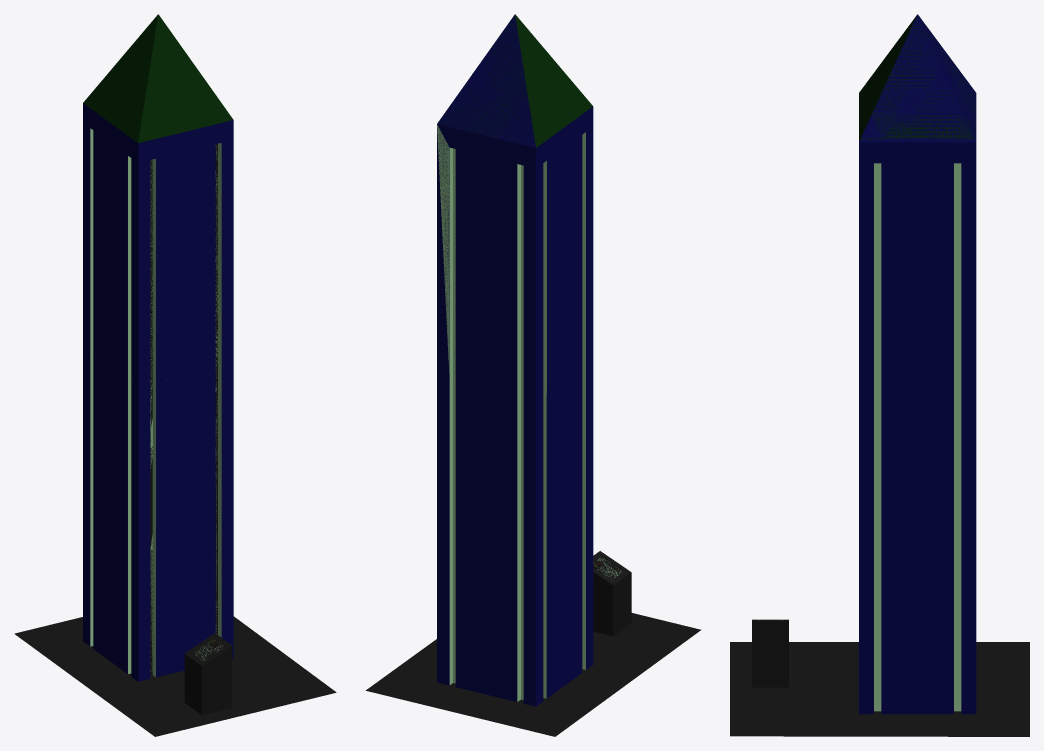
The model's file is torre.obj.
The picture shows the model from 3 angles, left to right: view 1: azimuth 30°, elevation 25°; view 2: azimuth 150°, elevation 25°; view 3: azimuth 270°, elevation 25°; orthographic projection. The views are drawn at different scales.
Visible parts, largest first — view 1: SketchUp.010_ID78; view 2: SketchUp.010_ID78; view 3: SketchUp.010_ID78.
Part boxes in pixels (x1=…): SketchUp.010_ID78: x1=14, y1=14, x2=336, y2=736; SketchUp.010_ID78: x1=366, y1=14, x2=701, y2=736; SketchUp.010_ID78: x1=730, y1=14, x2=1029, y2=736.
Bounding box in the file's own units: 3.57 × 11.85 × 4.77.
